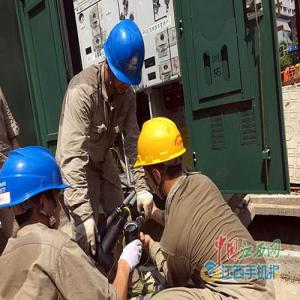blue: (5, 144, 67, 237), (102, 20, 145, 95)
yellow: (136, 116, 188, 199)
